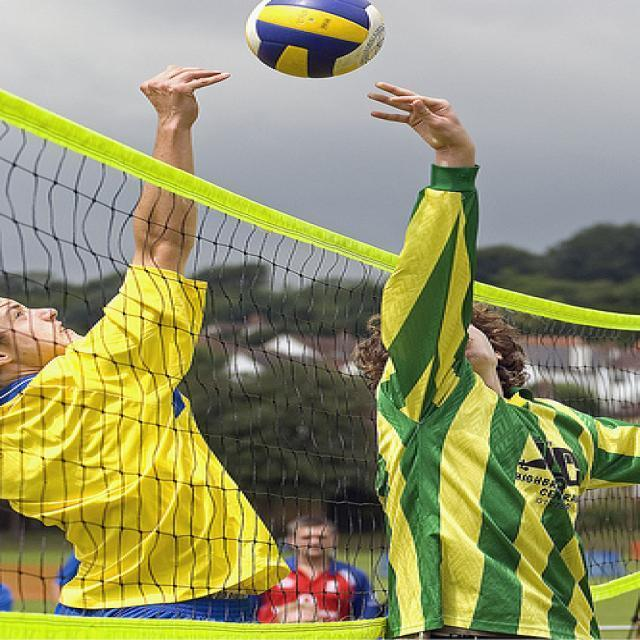volleyball: (246, 0, 386, 78)
